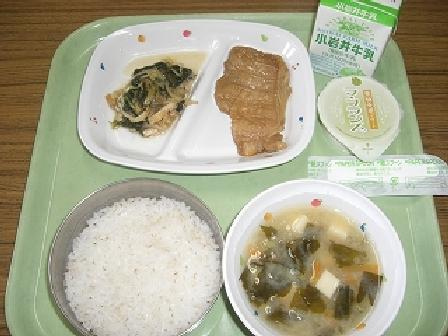Meat: (212, 21, 301, 149)
Milk: (308, 2, 401, 77)
Rice: (44, 179, 225, 333)
Soups: (228, 186, 400, 335)
salad with sauce: (105, 50, 198, 136)
